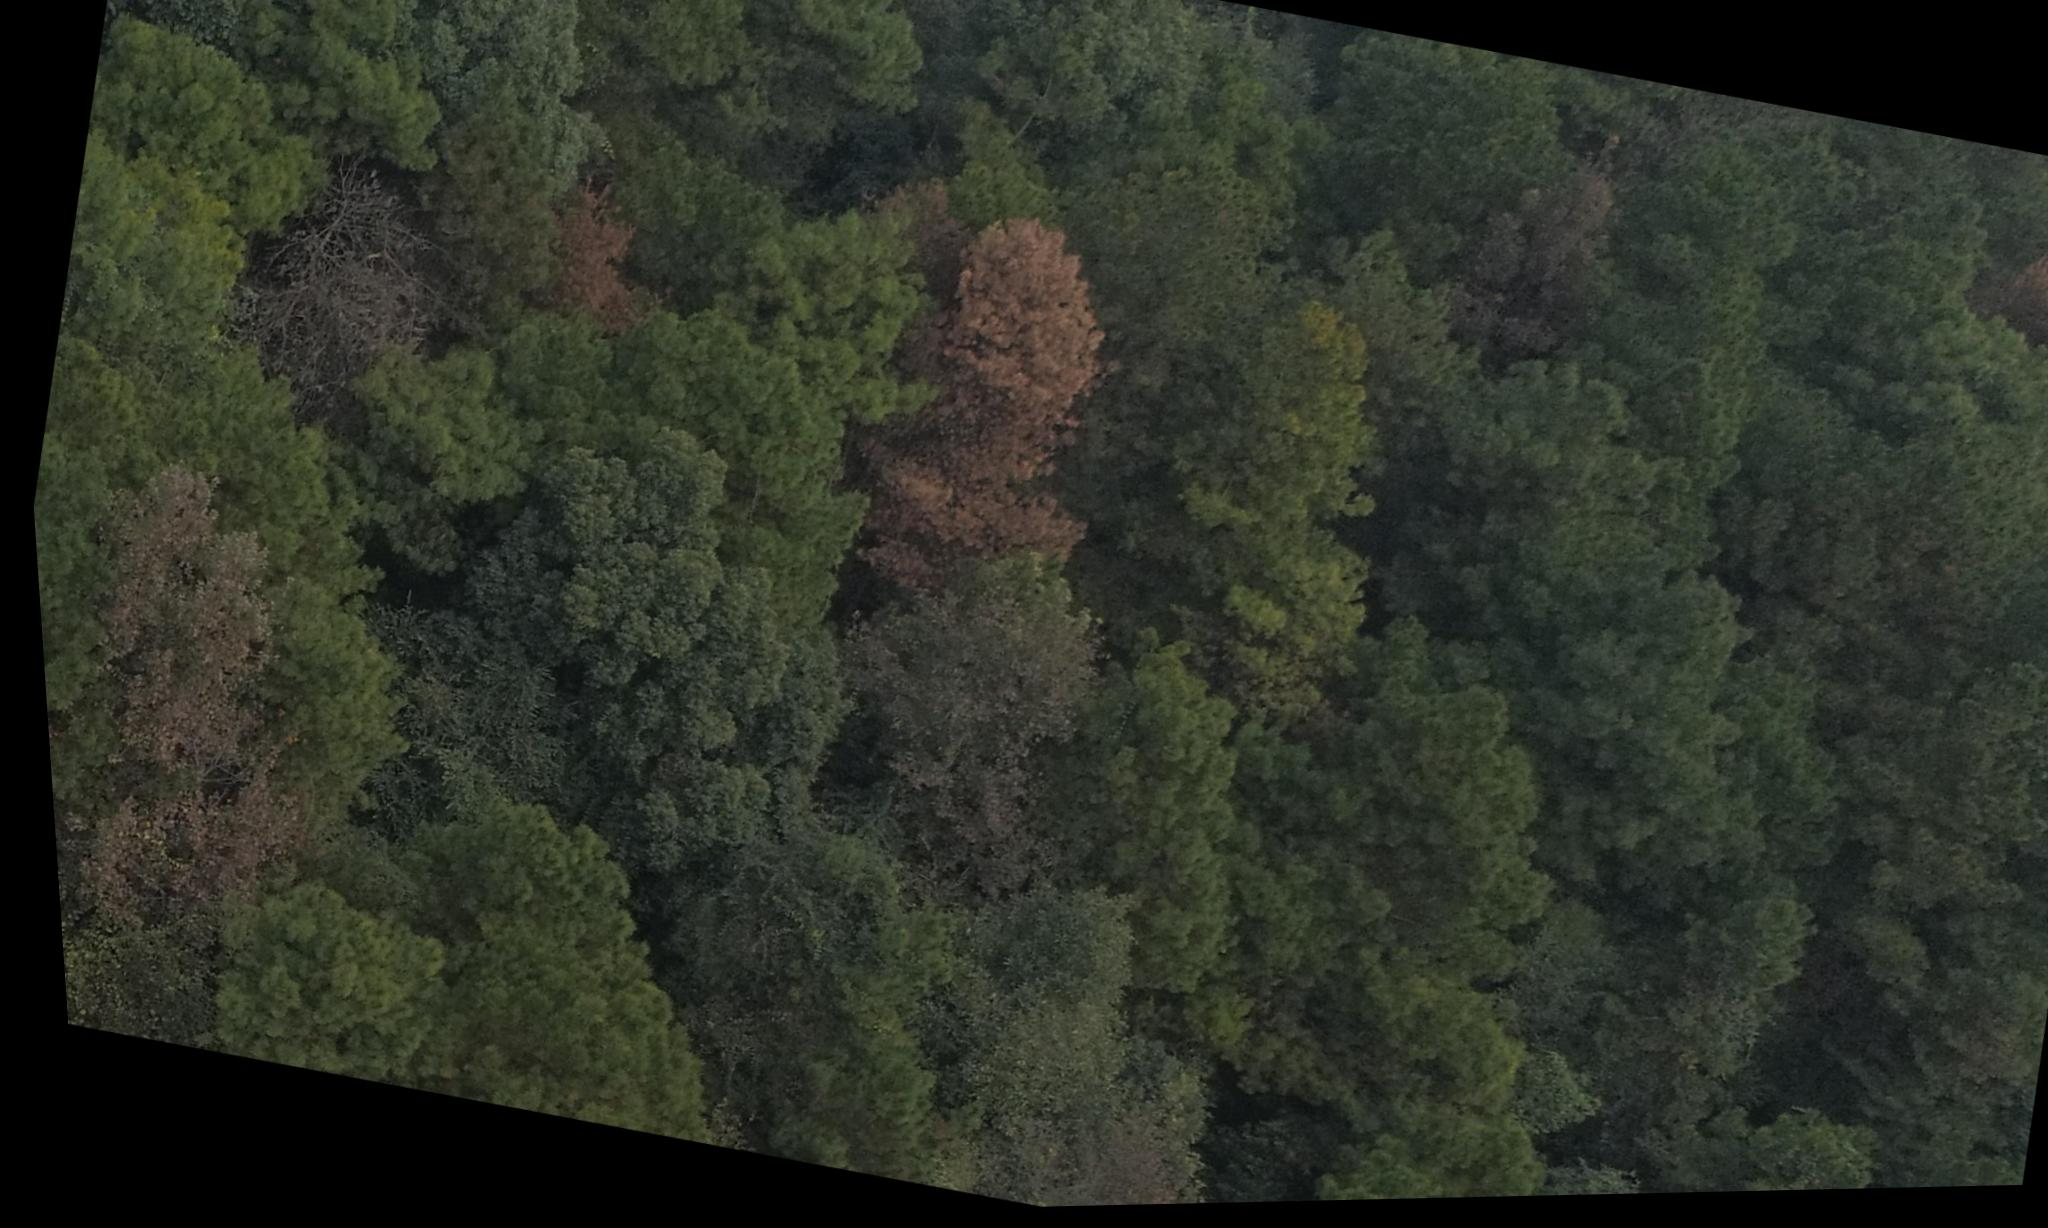dead: (189, 142, 462, 424)
heavy: (814, 174, 1153, 648), (522, 165, 674, 346), (1968, 234, 2048, 420)
